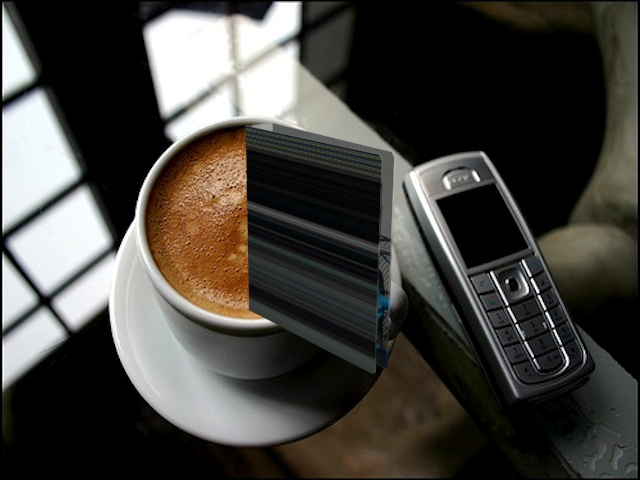ring_binder: (240, 113, 401, 380)
